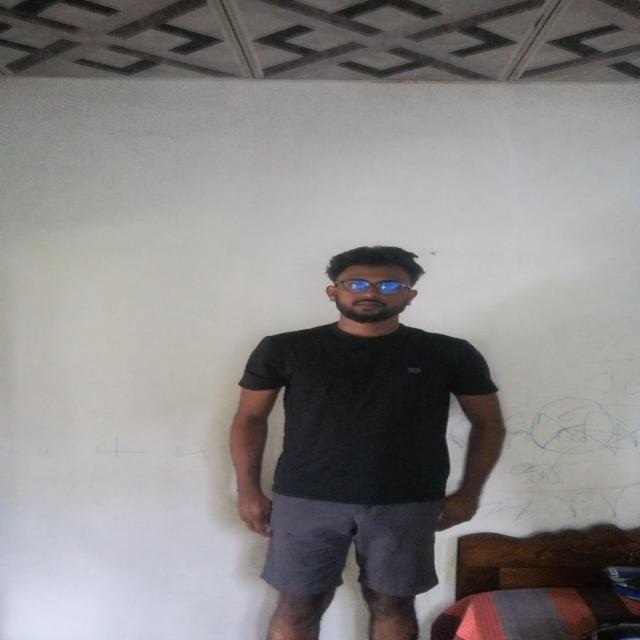Person: (215, 242, 490, 640)
